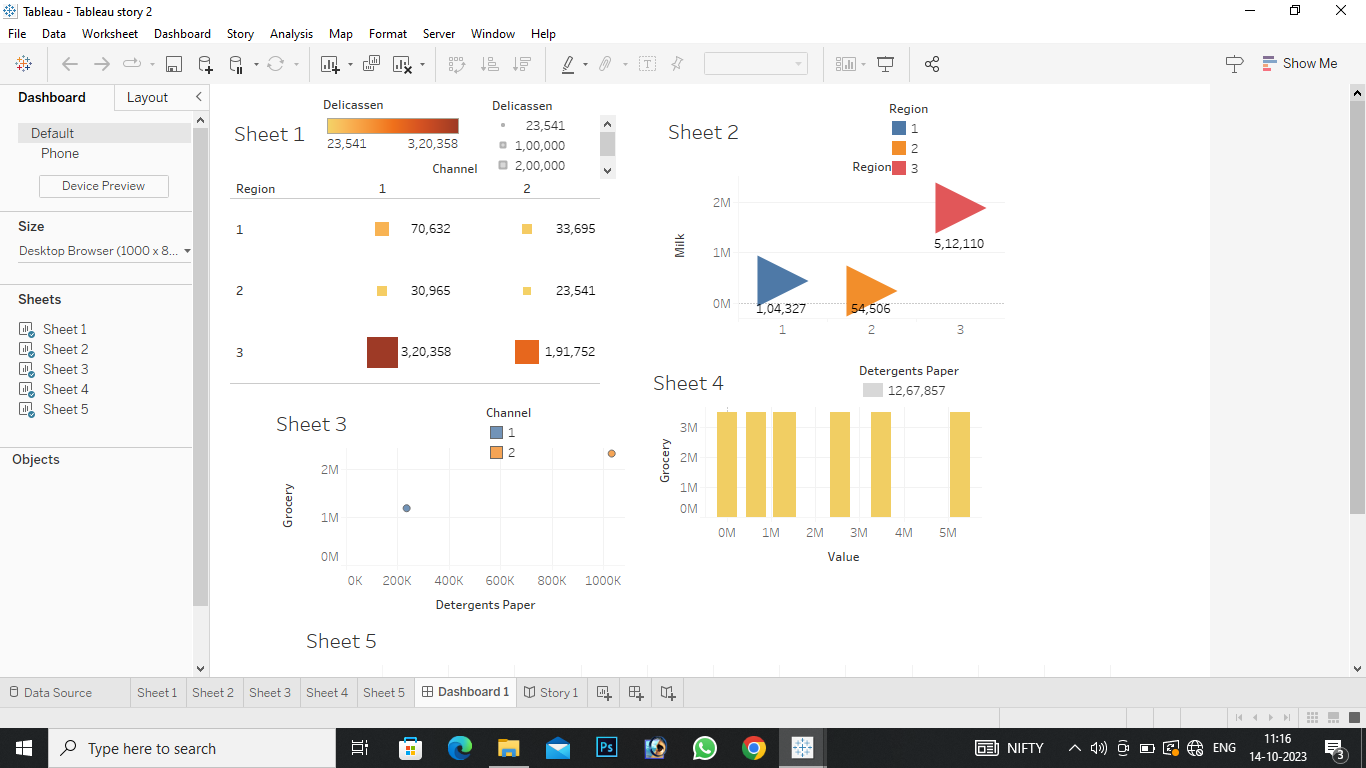

What the dashboard file says about the page in this screenshot:
{"tool":"tableau","page":{"name":"Dashboard 1","canvas":[1000,800],"ordinal":0},"visuals":[{"type":"legend","title":"Sheet 1","param":"[federated.1hj3eud0vkjejh126gk3x1wbshdc].[sum:Delicassen:qk]","box":[113,12,140,76]},{"type":"legend","title":"Sheet 1","param":"[federated.1hj3eud0vkjejh126gk3x1wbshdc].[sum:Delicassen:qk]","box":[282,13,126,82]},{"type":"legend","title":"Sheet 2","param":"[federated.1hj3eud0vkjejh126gk3x1wbshdc].[none:Region:ok]","box":[679,16,140,78]},{"type":"worksheet","title":"Sheet 2","mark":"Shape","rows":["Milk"],"cols":["Region"],"box":[454,29,341,226]},{"type":"worksheet","title":"Sheet 1","mark":"Automatic","rows":["Region"],"cols":["Channel"],"box":[20,31,370,269]},{"type":"legend","title":"Sheet 4","param":"[federated.1hj3eud0vkjejh126gk3x1wbshdc].[sum:Detergents_Paper:qk]","box":[649,278,140,38]},{"type":"worksheet","title":"Sheet 4","mark":"Bar","rows":["Grocery"],"box":[439,280,333,208]},{"type":"legend","title":"Sheet 3","param":"[federated.1hj3eud0vkjejh126gk3x1wbshdc].[none:Channel:ok]","box":[276,320,140,58]},{"type":"worksheet","title":"Sheet 3","mark":"Multipolygon","rows":["Grocery"],"cols":["Detergents_Paper"],"box":[62,321,353,215]},{"type":"legend","title":"Sheet 3","param":"[federated.1hj3eud0vkjejh126gk3x1wbshdc].[sum:Milk:qk]","box":[147,328,140,38]},{"type":"worksheet","title":"Sheet 5","mark":"Bar","box":[92,538,814,197]}]}

Visuals, with their boxes on the page's 1000x800 design canvas (x1, y1, x2, y2). These are canvas units, not pixel positions in the 1366x768 screenshot, which may show the page scaled, cropped or inside an application window:
"Sheet 1" legend: locate(113, 12, 253, 88)
"Sheet 1" legend: locate(282, 13, 408, 95)
"Sheet 2" legend: locate(679, 16, 819, 94)
"Sheet 2" worksheet (Shape marks): locate(454, 29, 795, 255)
"Sheet 1" worksheet: locate(20, 31, 390, 300)
"Sheet 4" legend: locate(649, 278, 789, 316)
"Sheet 4" worksheet (Bar marks): locate(439, 280, 772, 488)
"Sheet 3" legend: locate(276, 320, 416, 378)
"Sheet 3" worksheet (Multipolygon marks): locate(62, 321, 415, 536)
"Sheet 3" legend: locate(147, 328, 287, 366)
"Sheet 5" worksheet (Bar marks): locate(92, 538, 906, 735)
